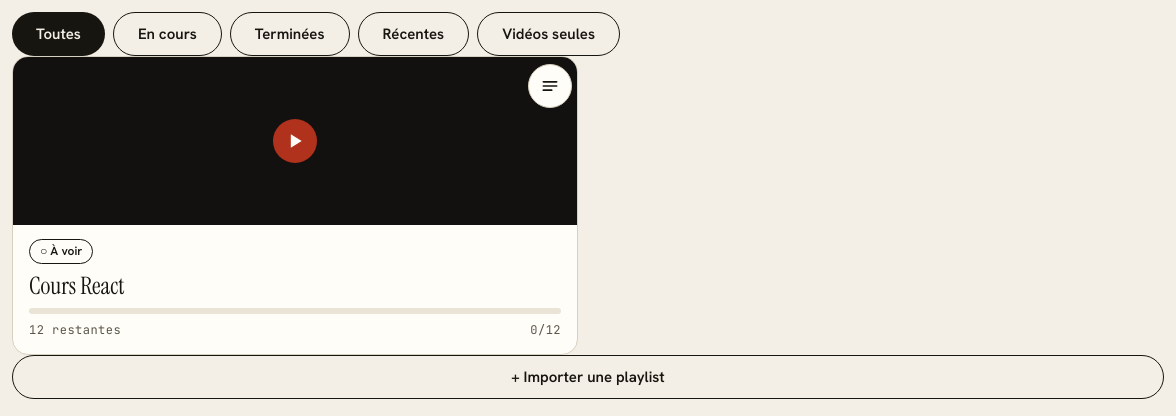
Scenario: PlaylistLibrary › videos kept on their own (YC-61) › says when there is no video on its own yet
The width and height of the screenshot is (1176, 416).
Expected: the text "Cours React" is shown, [29,270,124,301]
Click the button "Vidéos seules" at coordinates (549, 34), box [477,12,620,56]
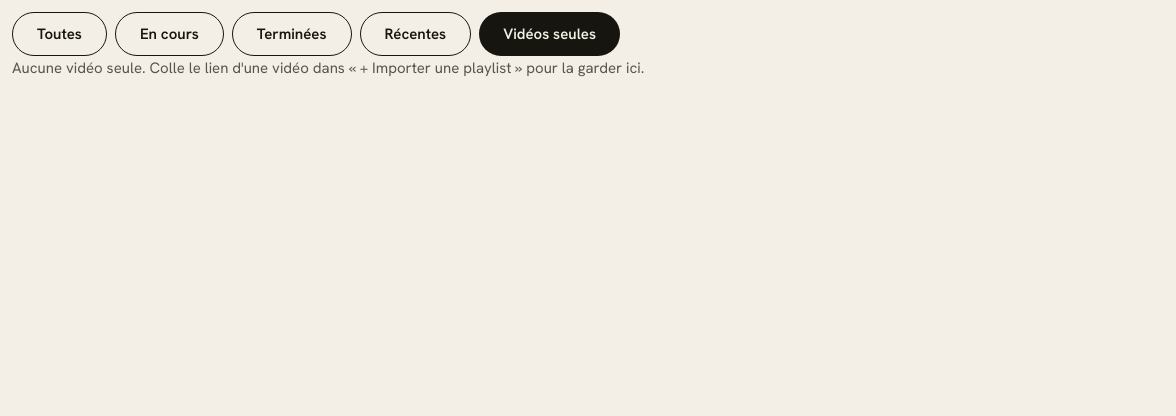
Now the text "Aucune vidéo seule" is shown, box [12,58,644,78]
